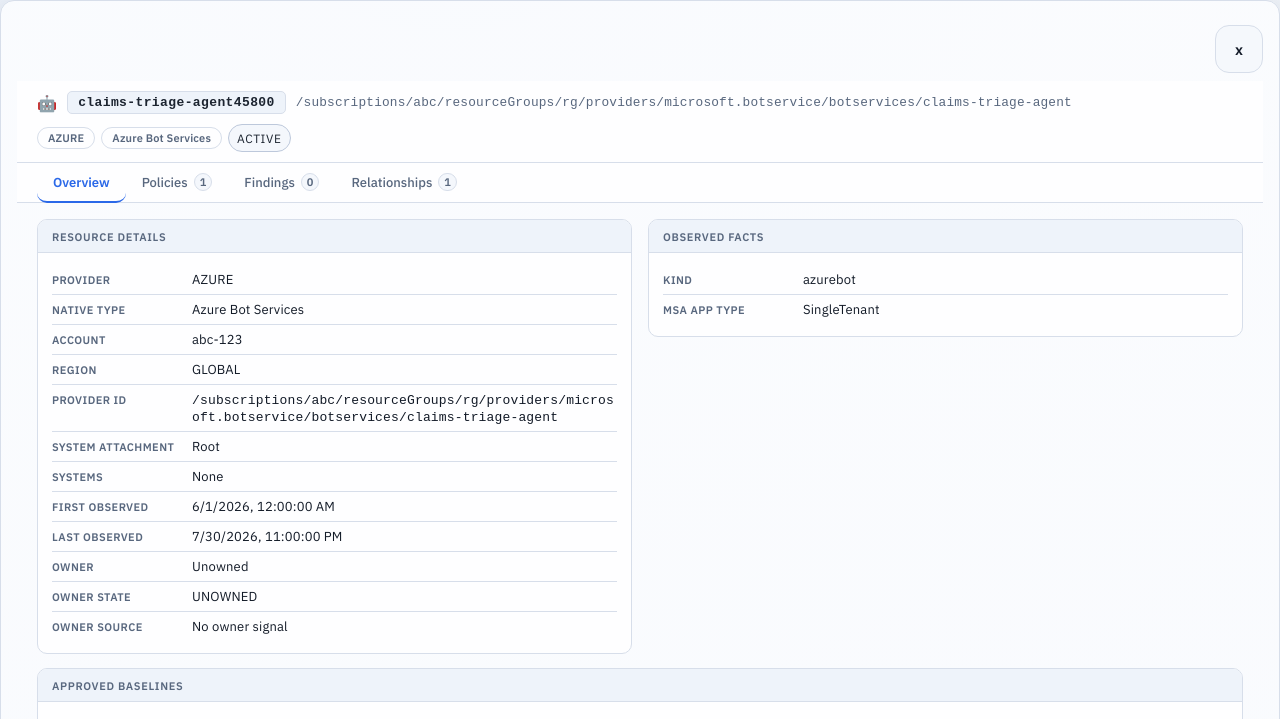
Test case: AiAssetDetailPage › shows connected resources in the Relationships tab
Check: the text "claims-triage-agent45800" is shown, box [67, 91, 286, 114]
Click the button "Relationships 1": [404, 183] box [335, 163, 473, 203]
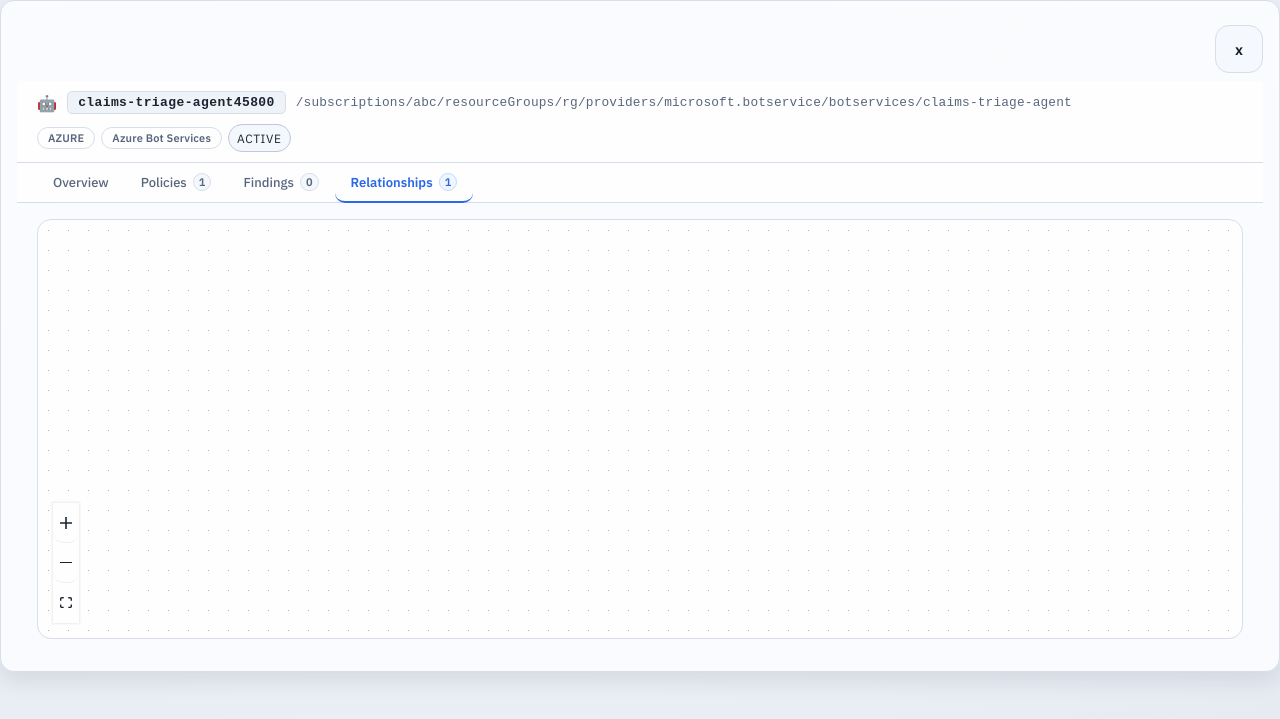
Check: the picture named "AI artifact dependency graph" is shown, box [37, 219, 1243, 639]
